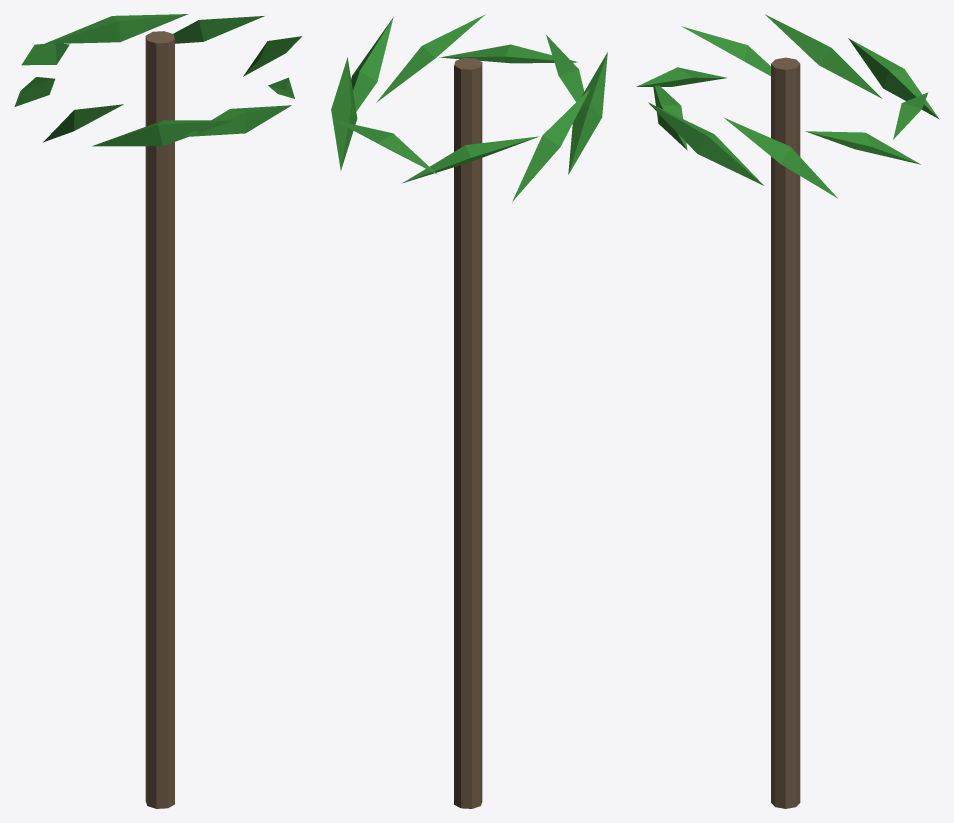
The model's file is PROP_PalmTree_LG.glb.
3 views of the same model, side by side, from view 1: azimuth 30°, elevation 25°; view 2: azimuth 150°, elevation 25°; view 3: azimuth 270°, elevation 25° (orthographic). The views are drawn at different scales.
Parts seen in each view (by area): view 1: PROP_PalmTree_LG; view 2: PROP_PalmTree_LG; view 3: PROP_PalmTree_LG.
Part boxes in pixels (box(x1,y1,x2,y2)): PROP_PalmTree_LG: box(14, 14, 302, 808); PROP_PalmTree_LG: box(331, 14, 607, 808); PROP_PalmTree_LG: box(636, 14, 939, 808).
Bounding box in the file's own units: 3.29 × 10 × 3.72.
